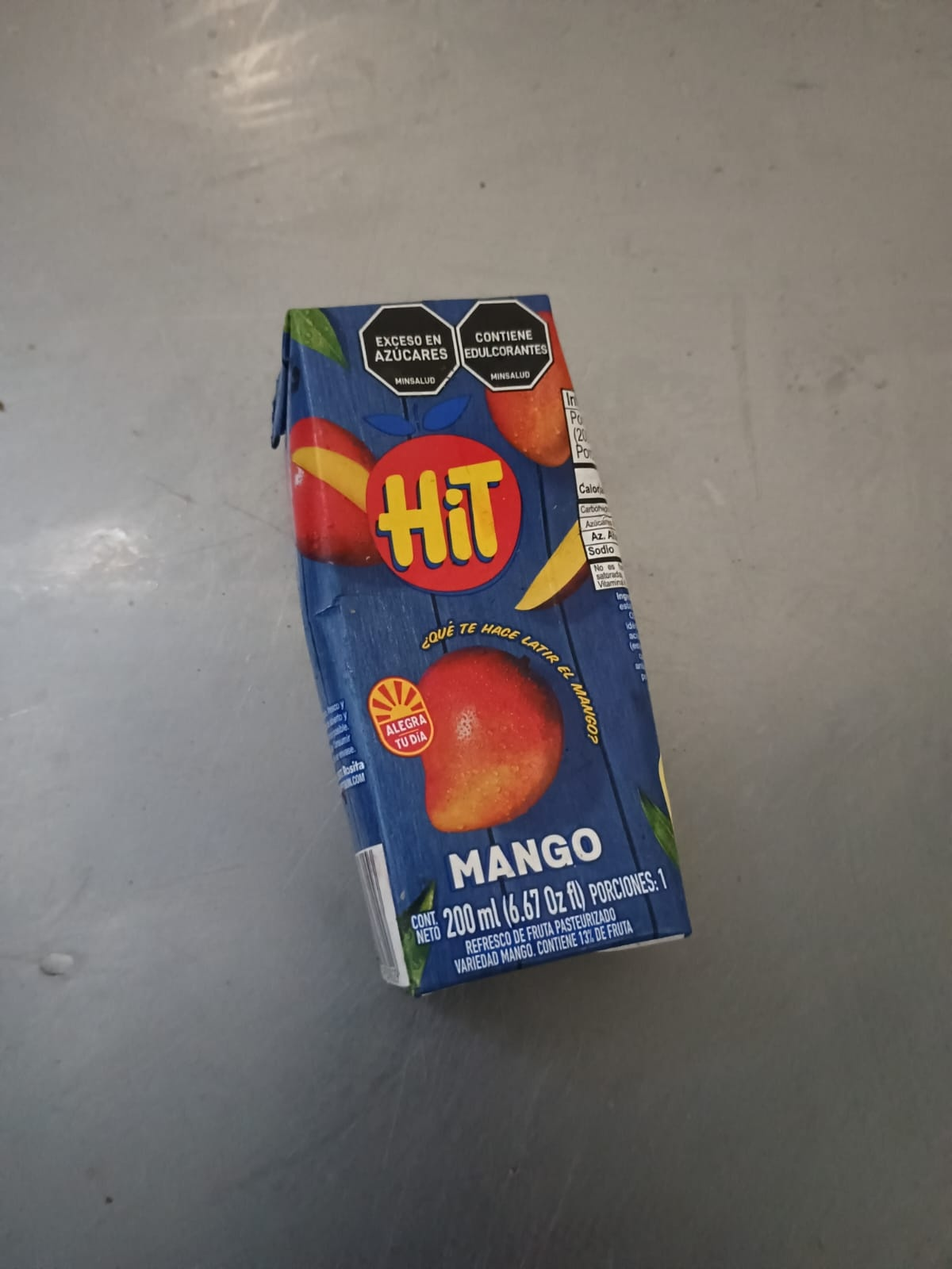Carton: (273, 299, 692, 1000)
